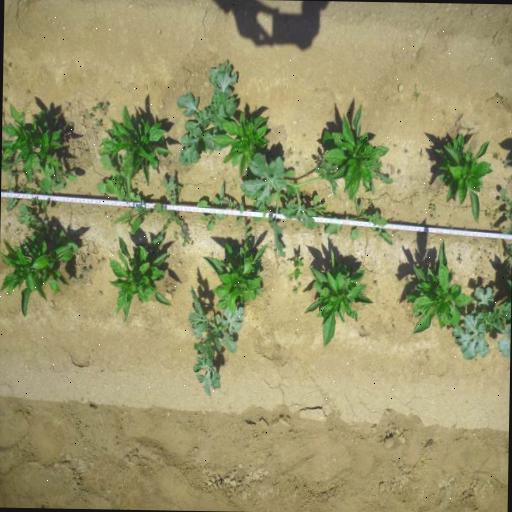plant: (302, 248, 373, 350), (403, 237, 475, 334), (97, 104, 171, 194), (324, 104, 392, 201), (0, 236, 73, 319), (107, 233, 172, 322), (435, 132, 494, 224), (2, 100, 69, 180), (200, 240, 271, 310), (213, 109, 271, 178)
weed: (241, 153, 339, 259), (175, 58, 239, 166), (187, 284, 246, 398), (452, 287, 511, 362), (323, 198, 394, 248), (11, 205, 82, 253), (150, 173, 190, 248), (193, 180, 227, 235), (90, 155, 128, 200), (115, 191, 152, 234), (223, 200, 256, 248), (40, 165, 79, 195), (3, 168, 29, 210), (25, 185, 64, 210), (371, 162, 398, 196), (308, 195, 331, 228), (292, 254, 305, 280), (501, 206, 512, 235), (498, 187, 512, 206), (180, 234, 195, 248), (292, 280, 303, 296), (502, 156, 512, 169), (284, 146, 295, 157), (414, 86, 421, 102), (492, 208, 499, 222), (366, 197, 374, 208), (176, 181, 182, 194), (458, 254, 464, 265), (94, 102, 101, 110), (96, 120, 103, 128), (81, 256, 88, 264), (102, 101, 108, 110), (430, 203, 437, 210), (485, 210, 491, 218), (406, 276, 412, 284), (373, 280, 379, 288), (210, 148, 216, 156), (170, 288, 176, 296), (86, 266, 92, 274), (494, 152, 500, 159), (90, 106, 96, 113), (76, 275, 82, 282), (88, 112, 94, 118), (397, 169, 401, 176), (296, 160, 300, 167), (82, 268, 86, 273), (299, 150, 302, 156), (430, 215, 434, 218), (290, 277, 292, 282), (180, 199, 182, 203)
